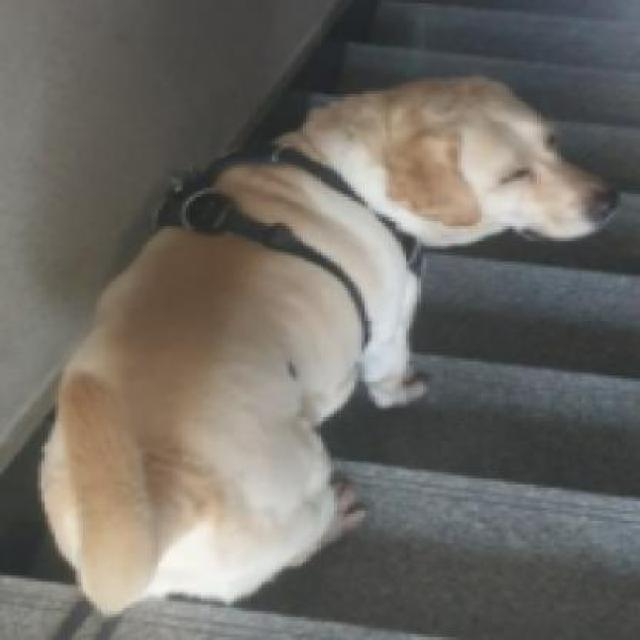Dog: (34, 70, 623, 622)
